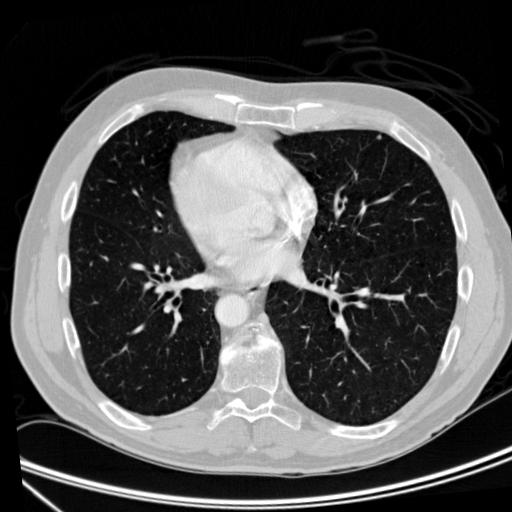nodule: (377, 132, 387, 142)
